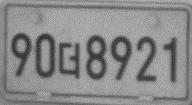0: (33, 32, 56, 78)
1: (161, 36, 178, 84)
2: (135, 36, 158, 82)
8: (84, 33, 107, 80)
9: (109, 34, 133, 80), (9, 32, 33, 77)
더: (57, 41, 81, 80)
